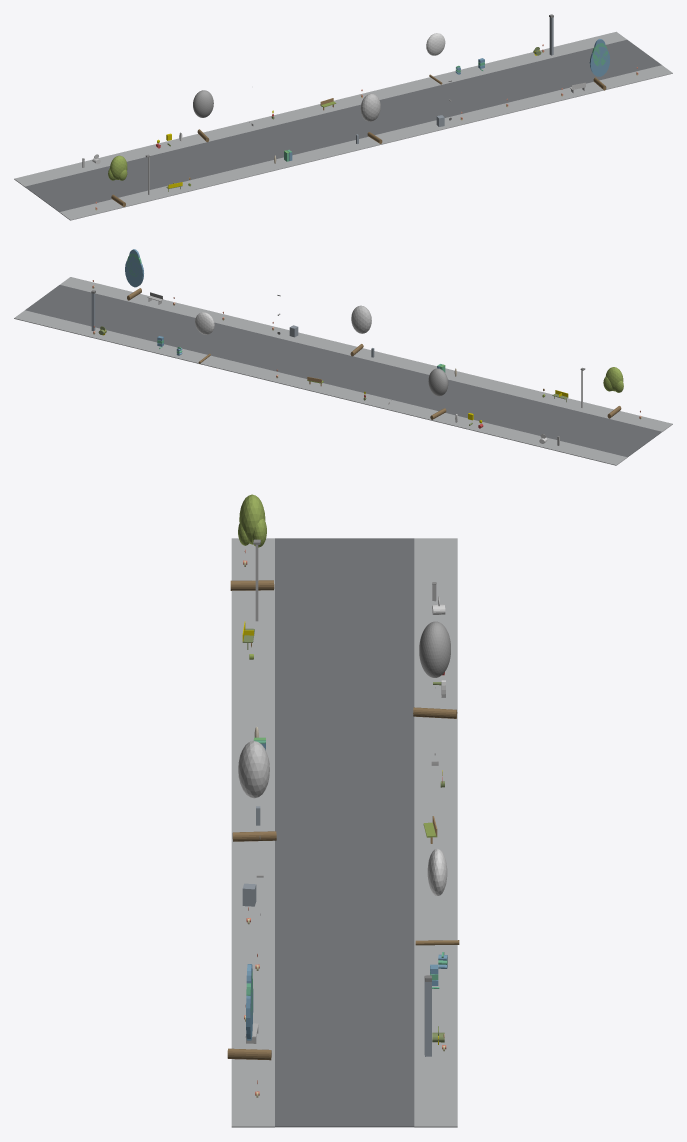
3 views of the same model, one above another, from view 1: azimuth 30°, elevation 25°; view 2: azimuth 150°, elevation 25°; view 3: azimuth 270°, elevation 25° (orthographic). The views are drawn at different scales.
Parts seen in each view (by area): view 1: road_slab, sidewalk_left, sidewalk_right, inst_0016, inst_0014, inst_0013, inst_0012, inst_0015; view 2: road_slab, sidewalk_right, sidewalk_left, inst_0016, inst_0014, inst_0013, inst_0012, inst_0015; view 3: road_slab, sidewalk_right, sidewalk_left, inst_0014, inst_0013, inst_0012, inst_0016, inst_0015.
Part boxes in pixels (box(x1,y1,x2,y2)): road_slab: box(25, 39, 661, 212); sidewalk_left: box(59, 65, 672, 220); sidewalk_right: box(14, 31, 626, 186); inst_0016: box(589, 38, 610, 90); inst_0014: box(360, 93, 382, 143); inst_0013: box(193, 90, 213, 142); inst_0012: box(108, 155, 127, 206); inst_0015: box(426, 33, 445, 84); road_slab: box(25, 285, 661, 457); sidewalk_right: box(14, 310, 627, 465); sidewalk_left: box(60, 277, 672, 431); inst_0016: box(125, 249, 143, 300); inst_0014: box(350, 305, 371, 356); inst_0013: box(428, 368, 448, 419); inst_0012: box(603, 367, 623, 418); inst_0015: box(195, 312, 214, 363); road_slab: box(275, 538, 414, 1127); sidewalk_right: box(414, 538, 457, 1127); sidewalk_left: box(231, 538, 274, 1127); inst_0014: box(232, 740, 276, 841); inst_0013: box(413, 621, 457, 718); inst_0012: box(230, 494, 274, 590); inst_0016: box(227, 964, 271, 1060); inst_0015: box(415, 848, 459, 945).
Size of the model in its own units: 80 by 6.08 by 13.31.
